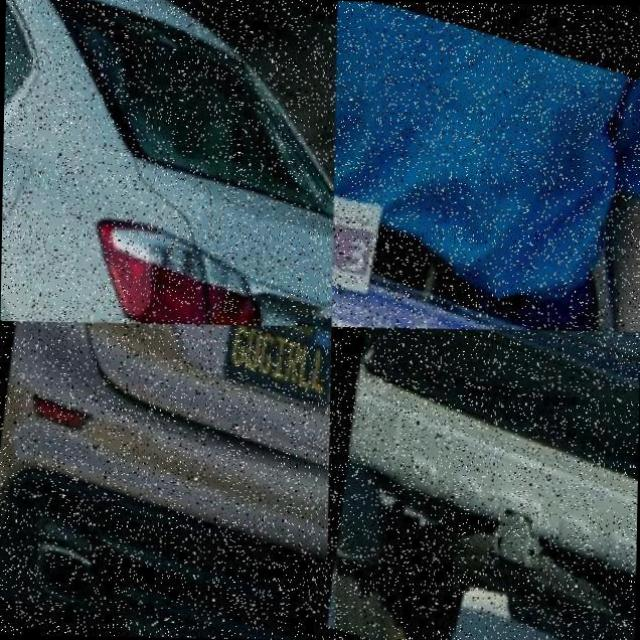LicensePlate: (210, 324, 332, 409), (502, 329, 612, 388)
